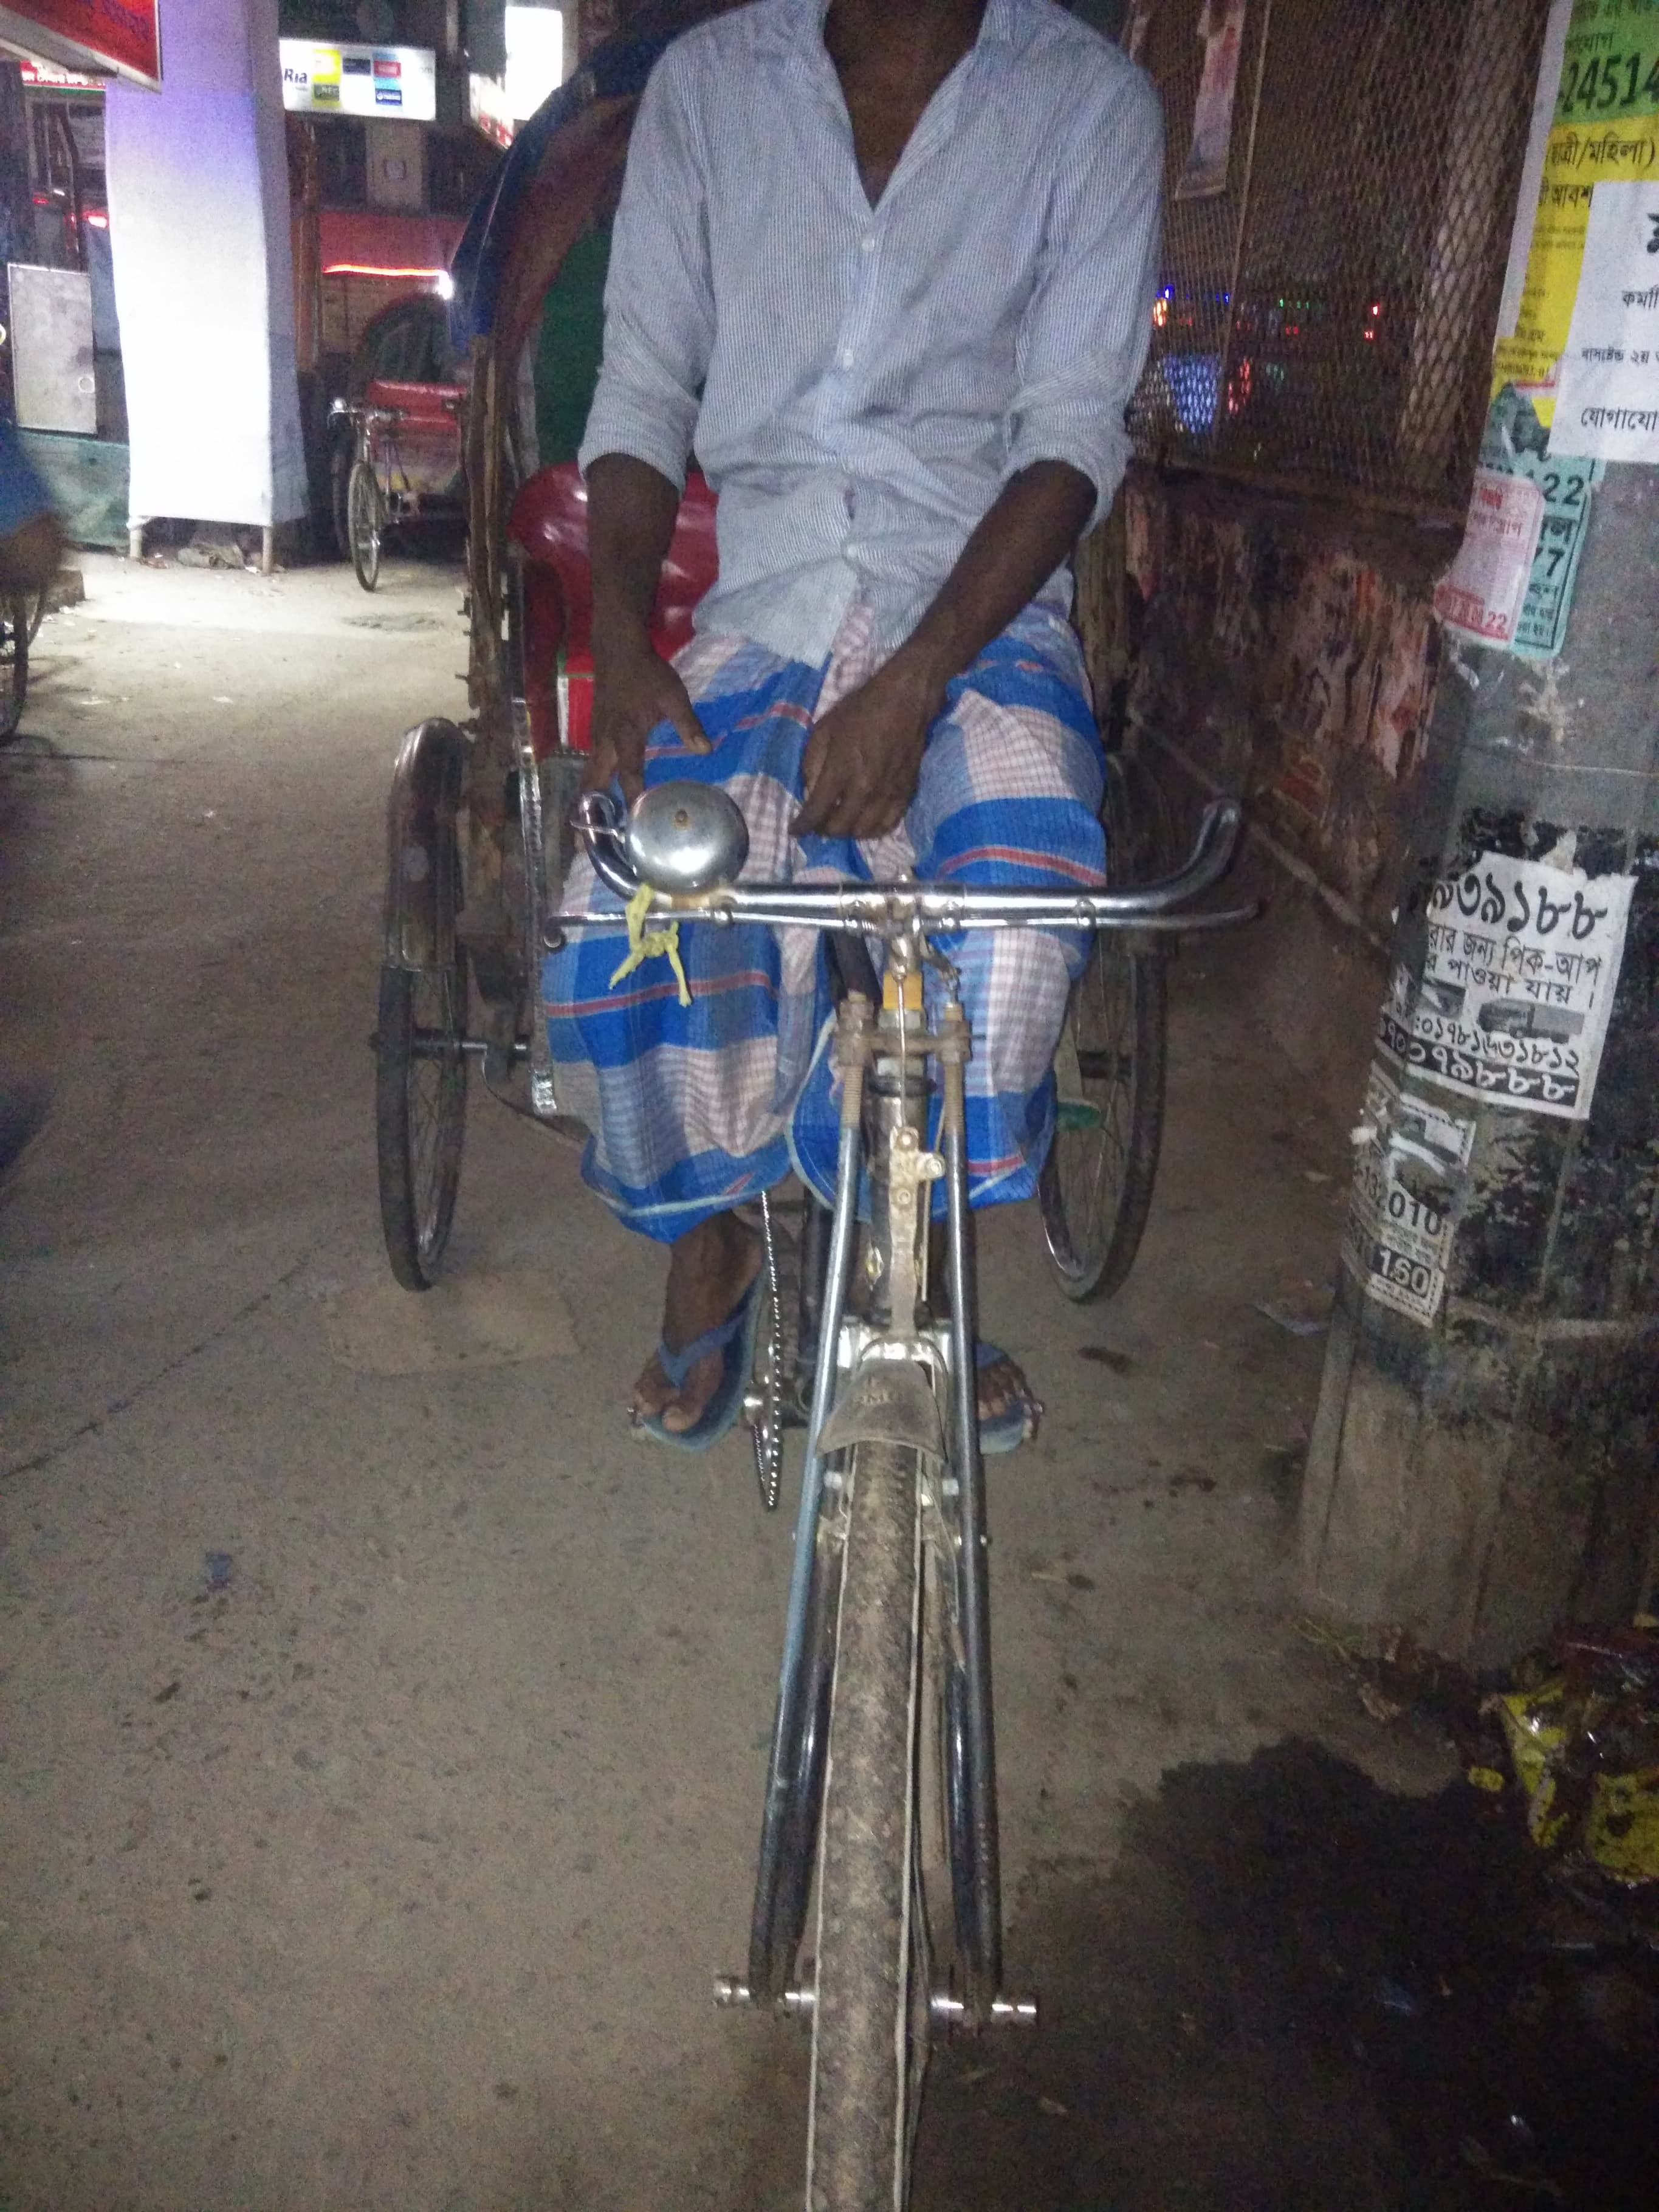Rickshaw: (357, 2, 1223, 2120), (288, 246, 505, 587)
